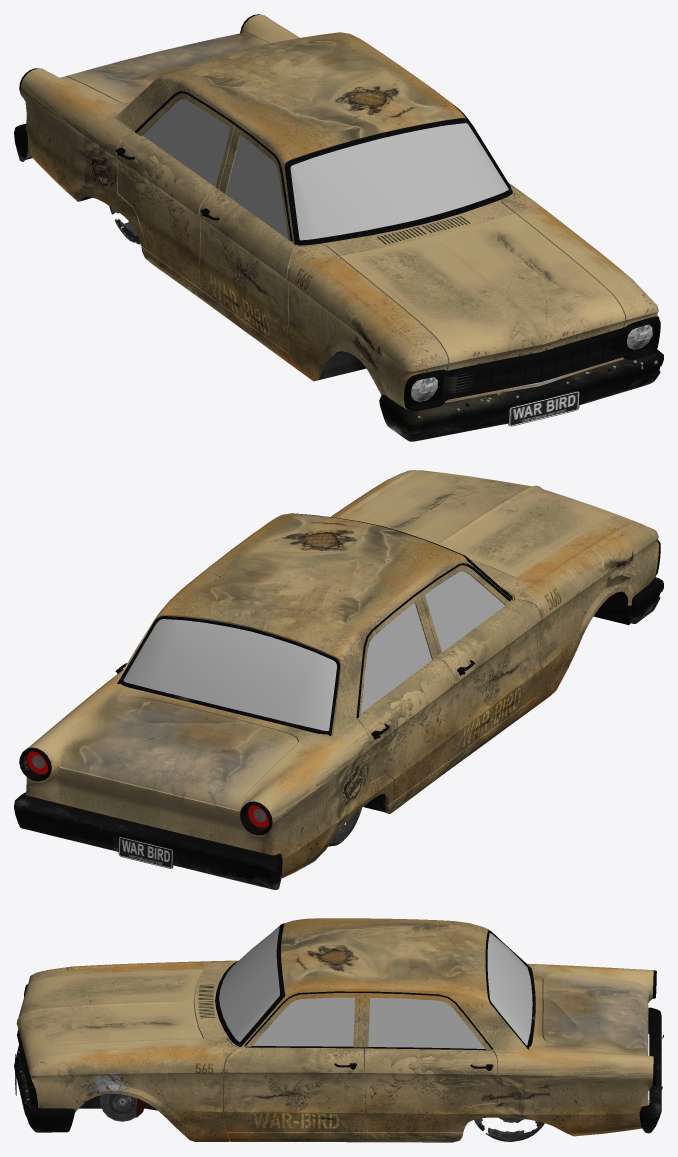
File: 49_WarBird.fbx
3 renders of one model, top to bottom at view 1: azimuth 30°, elevation 25°; view 2: azimuth 150°, elevation 25°; view 3: azimuth 270°, elevation 25°, orthographic. The views are drawn at different scales.
Parts seen in each view (by area): view 1: Body_Duco, Kit_00_Duco, Body_Glass, Body_Glossy, Undercarriage, NumberPlate (1); view 2: Body_Duco, Body_Glass, Kit_00_Duco, Body_Glossy, Undercarriage, NumberPlate; view 3: Body_Duco, Body_Glass, Kit_00_Duco, Body_Glossy, Rotor.
Part boxes in pixels (x1,y1,x2,y2): Body_Duco: (20, 14, 658, 409); Kit_00_Duco: (339, 213, 625, 370); Body_Glass: (142, 99, 508, 240); Body_Glossy: (14, 14, 663, 441); Undercarriage: (81, 196, 623, 424); NumberPlate (1): (508, 391, 579, 426); Body_Duco: (24, 470, 658, 878); Body_Glass: (123, 571, 504, 730); Kit_00_Duco: (360, 472, 621, 577); Body_Glossy: (14, 513, 663, 889); Undercarriage: (122, 591, 631, 812); NumberPlate: (118, 837, 173, 868); Body_Duco: (26, 918, 653, 1142); Body_Glass: (219, 926, 532, 1048); Kit_00_Duco: (16, 969, 203, 1059); Body_Glossy: (14, 923, 663, 1133); Rotor: (100, 1093, 137, 1121).
Bounding box in the file's own units: 1.79 × 1.25 × 4.76.
